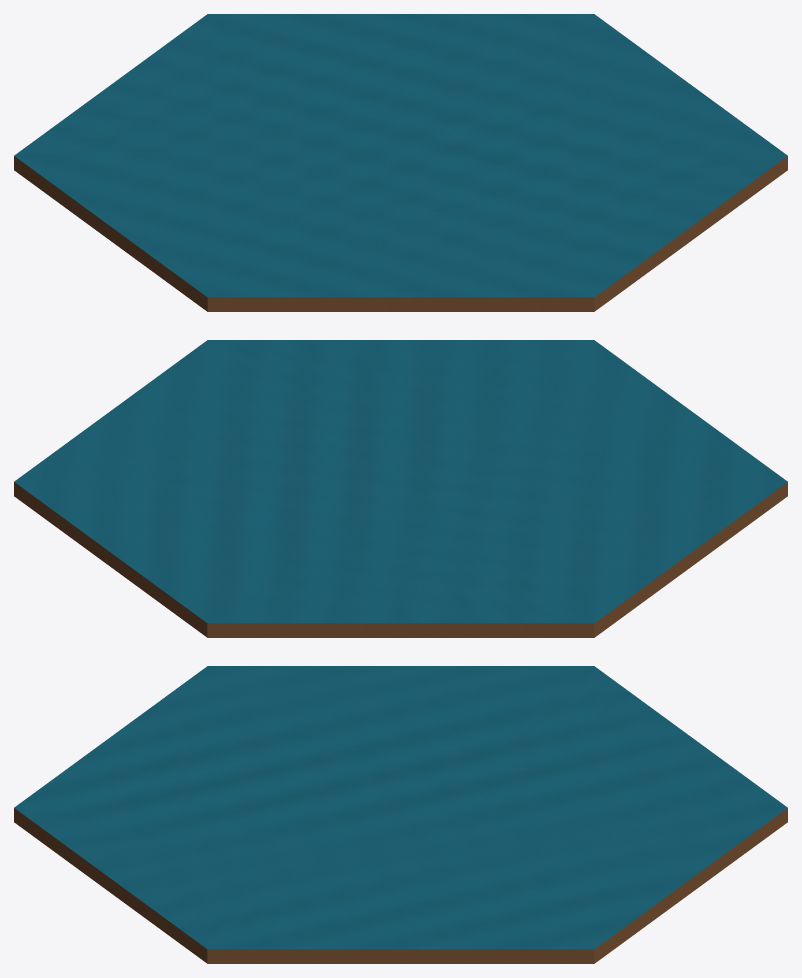
The model's file is SM_MarNatural_A_LOD0.fbx.
The picture shows the model from 3 angles, top to bottom: view 1: azimuth 30°, elevation 25°; view 2: azimuth 150°, elevation 25°; view 3: azimuth 270°, elevation 25°; orthographic projection.
Visible parts, largest first — view 1: SM_MarNatural_A_LOD0; view 2: SM_MarNatural_A_LOD0; view 3: SM_MarNatural_A_LOD0.
Part boxes in pixels (left/top/right/bottom): SM_MarNatural_A_LOD0: left=14, top=14, right=787, bottom=311; SM_MarNatural_A_LOD0: left=14, top=340, right=787, bottom=637; SM_MarNatural_A_LOD0: left=14, top=666, right=787, bottom=963.
Bounding box in the file's own units: 1.68 × 0.0424 × 1.94.
Materials: 1 (1 with a texture image).
